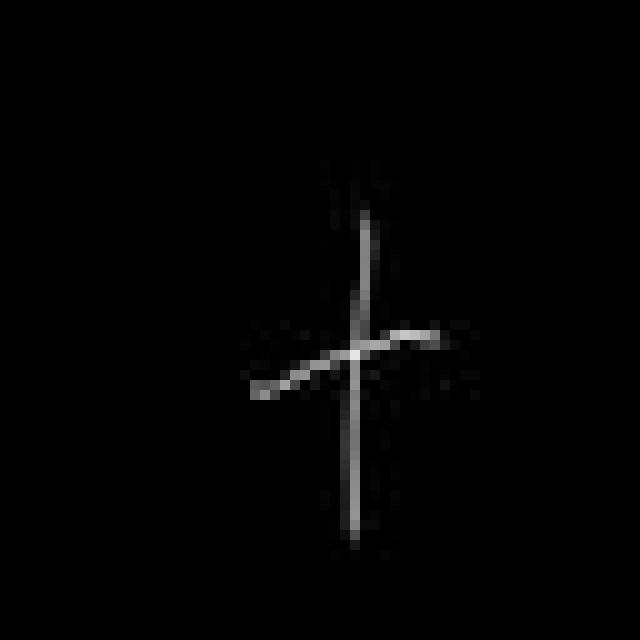10 -ten-: (245, 192, 457, 543)
